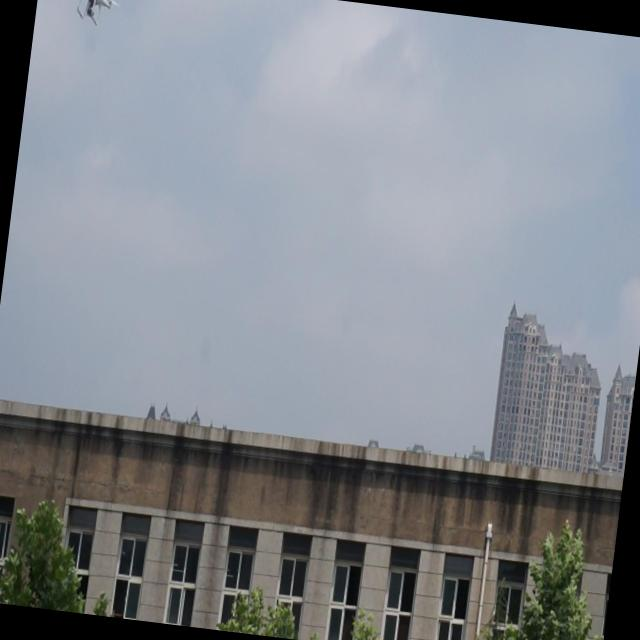drone: (56, 0, 127, 33)
